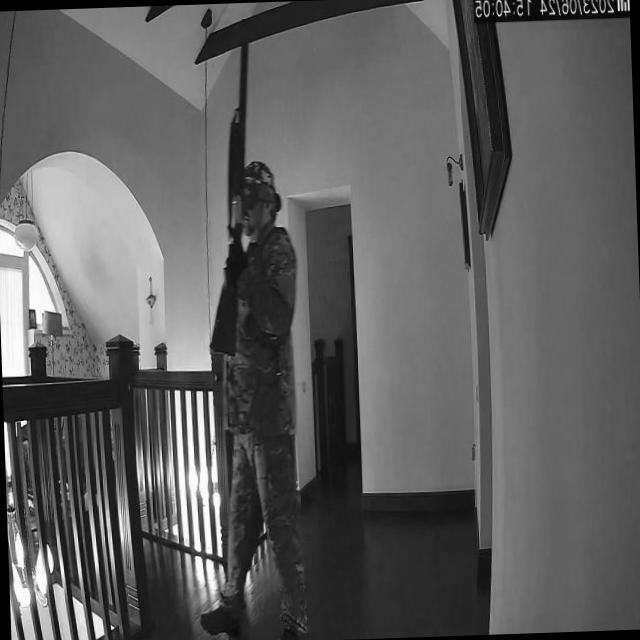gun: (194, 16, 262, 360)
person with a gun: (198, 25, 307, 640)
